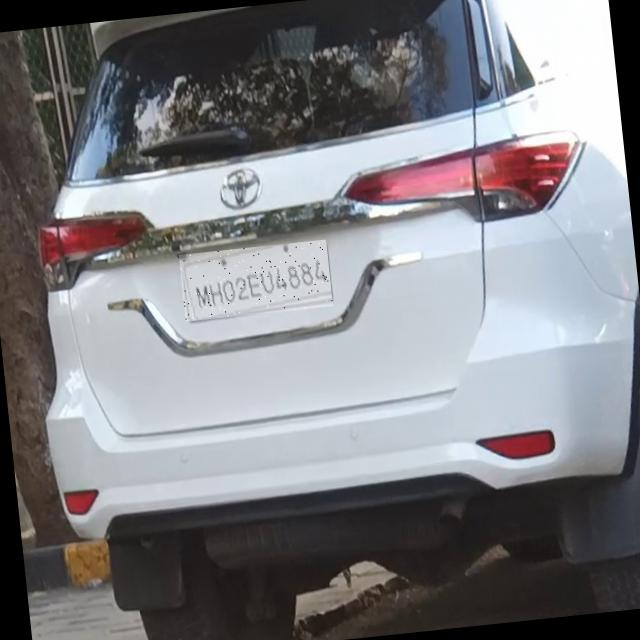Plate: (180, 240, 334, 322)
